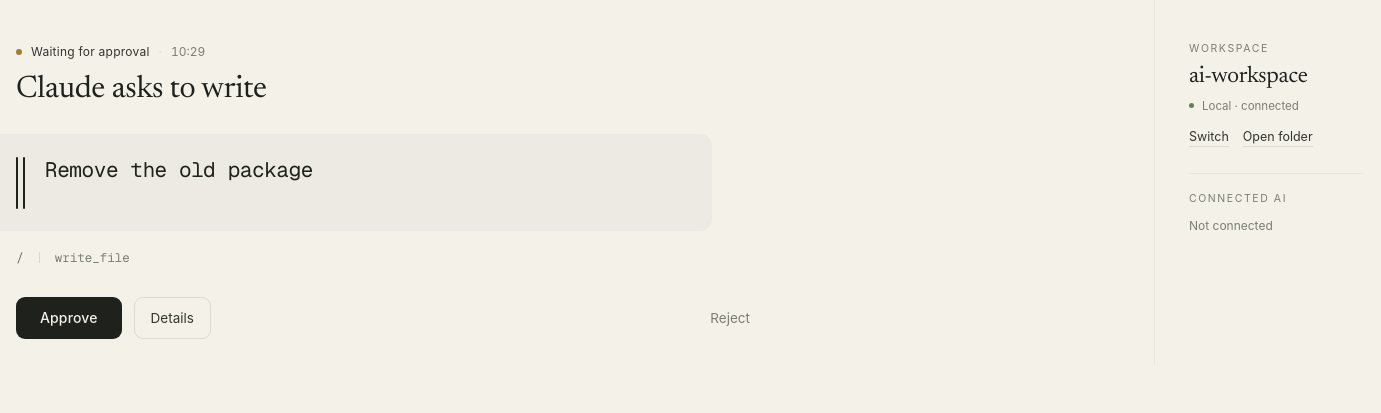
Test: a recursive delete is asked twice › shows how much goes before the press that does it
This screenshot has width=1381, height=413.
Click the button "Approve" at (69, 318), box [16,297,122,339]
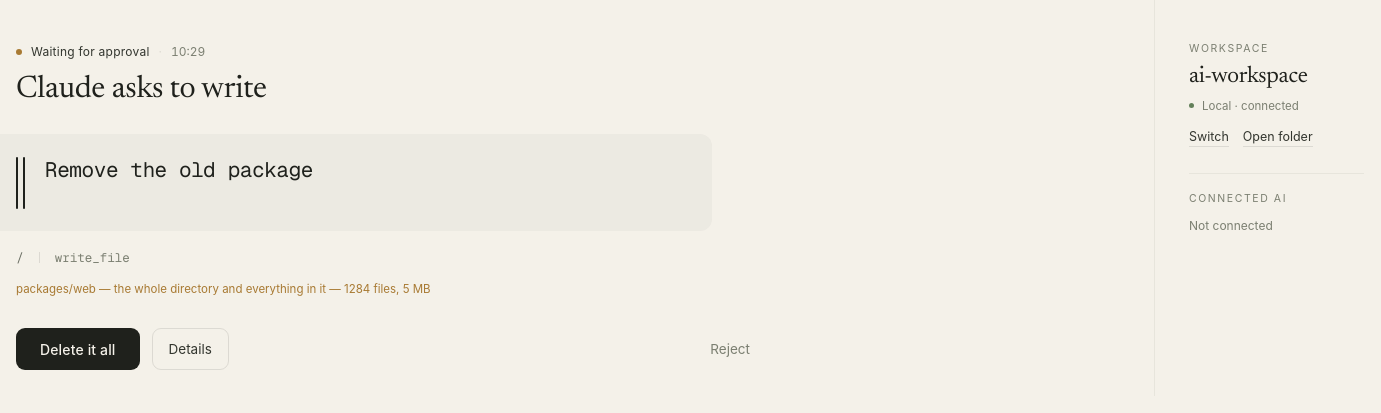
expect the text "1284 files" is shown: met, box [16,282,431,296]
expect the text "5 MB" is shown: met, box [16,282,431,296]
expect the text "packages/web" is shown: met, box [16,282,431,296]
